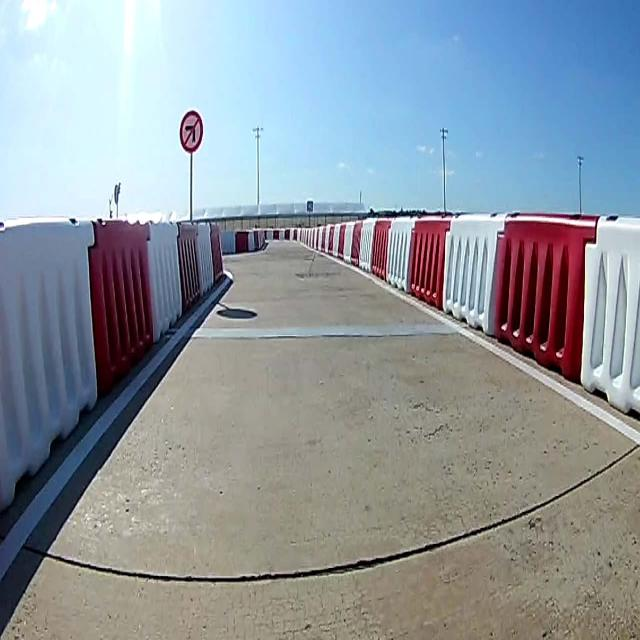soladonulmez: (179, 108, 203, 156)
